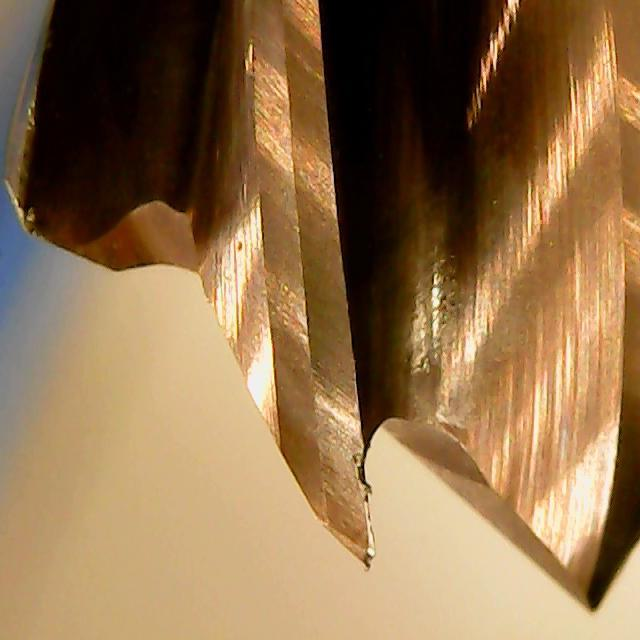Tool-wear-class-1: (269, 353, 386, 572)
